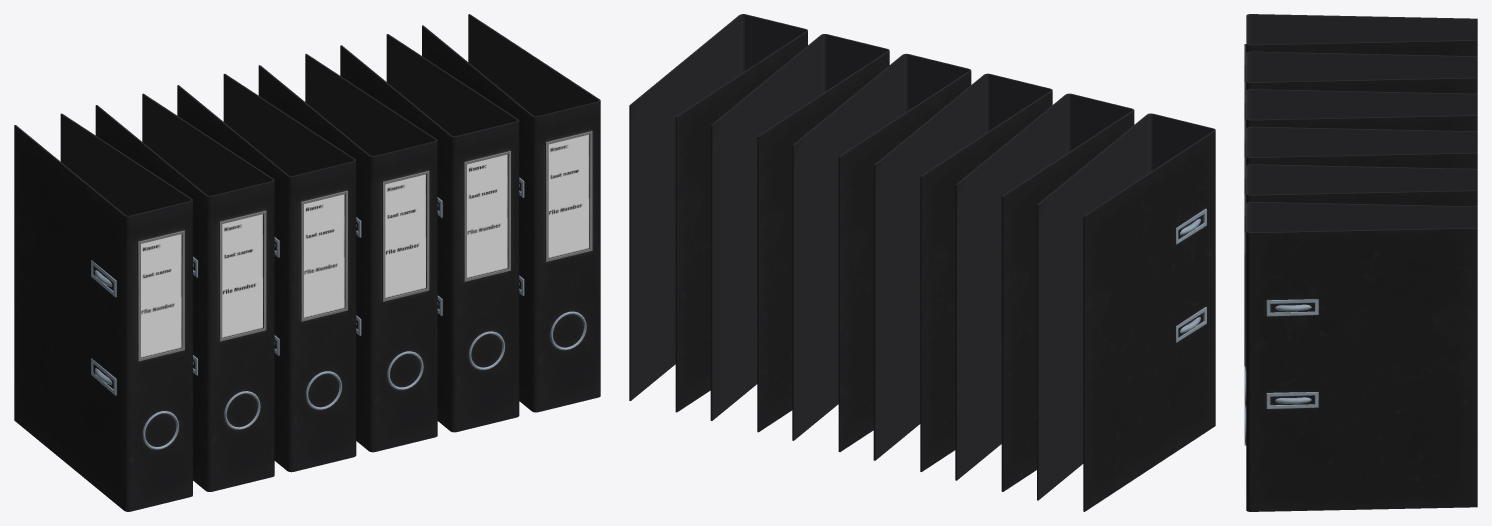
Rendered from folder_-_3mb.glb.
The picture shows the model from 3 angles, left to right: view 1: azimuth 30°, elevation 25°; view 2: azimuth 150°, elevation 25°; view 3: azimuth 270°, elevation 25°; orthographic projection. The views are drawn at different scales.
Parts seen in each view (by area): view 1: Cube_2_0, Cube_2_4, Cube_2_2, Cube_2_3, Cube_2_1, Cube_2_5; view 2: Cube_2_0, Cube_2_2, Cube_2_4, Cube_2_1, Cube_2_3, Cube_2_5; view 3: Cube_2_5, Cube_2_4, Cube_2_3, Cube_2_1, Cube_2_2, Cube_2_0.
Part boxes in pixels (<box>): Cube_2_0: <box>14,113,192,511</box>; Cube_2_4: <box>340,34,519,432</box>; Cube_2_2: <box>177,74,356,472</box>; Cube_2_3: <box>258,54,437,452</box>; Cube_2_1: <box>95,93,274,491</box>; Cube_2_5: <box>422,14,600,412</box>; Cube_2_0: <box>1037,113,1215,511</box>; Cube_2_2: <box>873,73,1052,471</box>; Cube_2_4: <box>710,34,889,432</box>; Cube_2_1: <box>955,93,1134,491</box>; Cube_2_3: <box>792,53,971,451</box>; Cube_2_5: <box>629,14,807,412</box>; Cube_2_5: <box>1244,201,1477,511</box>; Cube_2_4: <box>1244,164,1477,406</box>; Cube_2_3: <box>1244,126,1477,369</box>; Cube_2_1: <box>1244,51,1477,118</box>; Cube_2_2: <box>1244,89,1477,156</box>; Cube_2_0: <box>1244,14,1477,81</box>.
Size of the model in its own units: 0.7071 by 0.4154 by 0.3152.
Materials: 1 (1 with a texture image).
